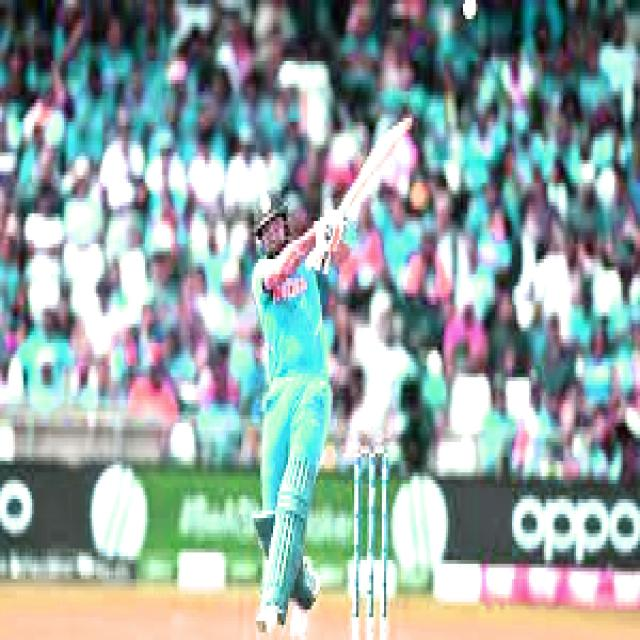toe: (393, 102, 421, 148)
